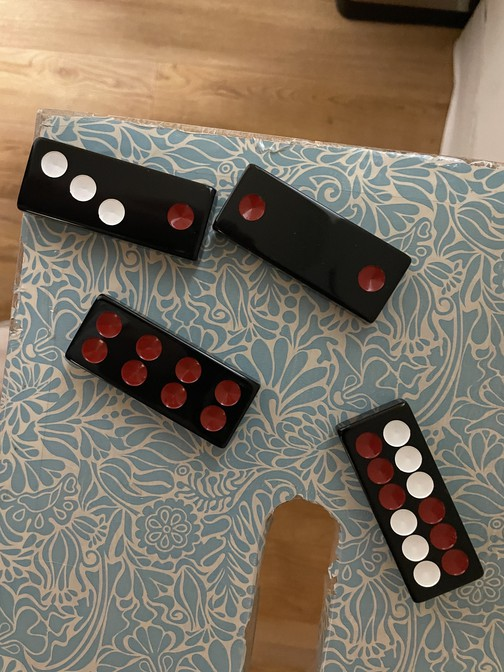earth: (212, 164, 412, 324)
goose: (17, 139, 216, 262)
heaven: (334, 399, 486, 604)
man: (63, 294, 260, 448)
